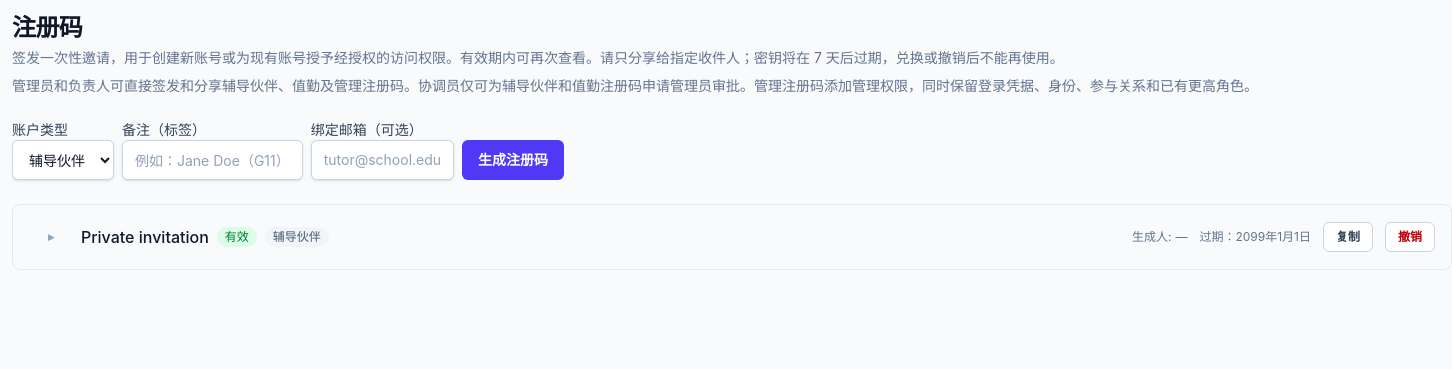
associates zh invitation labels and retains draft fields through failure
Expected: the text "Private invitation" is shown, x1=81 y1=225 x2=209 y2=249
In the field labelled "备注（标签）": (212, 160) x1=122 y1=140 x2=303 y2=180, type "Unsaved invitation"
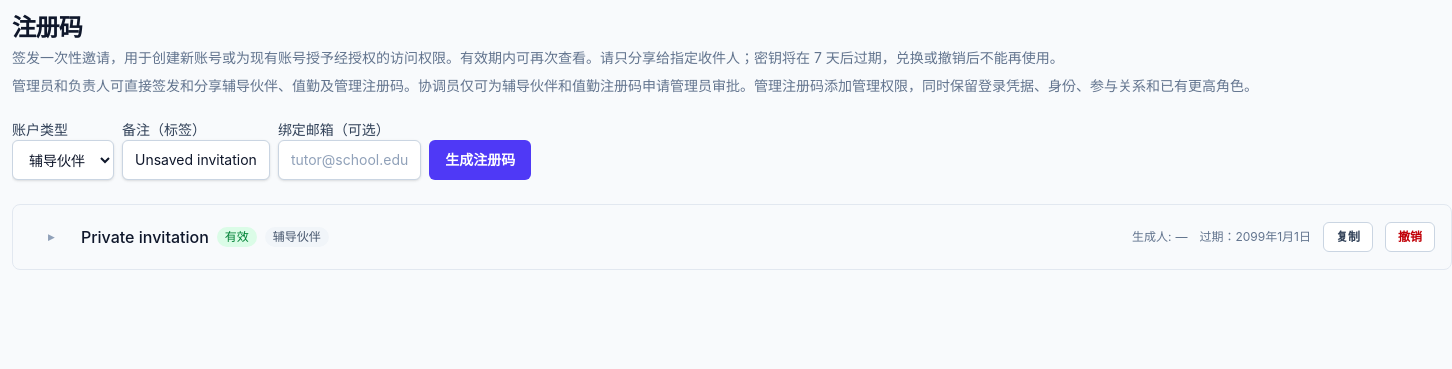
In the field labelled "绑定邮箱（可选）": (350, 160) x1=278 y1=140 x2=421 y2=180, type "synthetic@example.test"
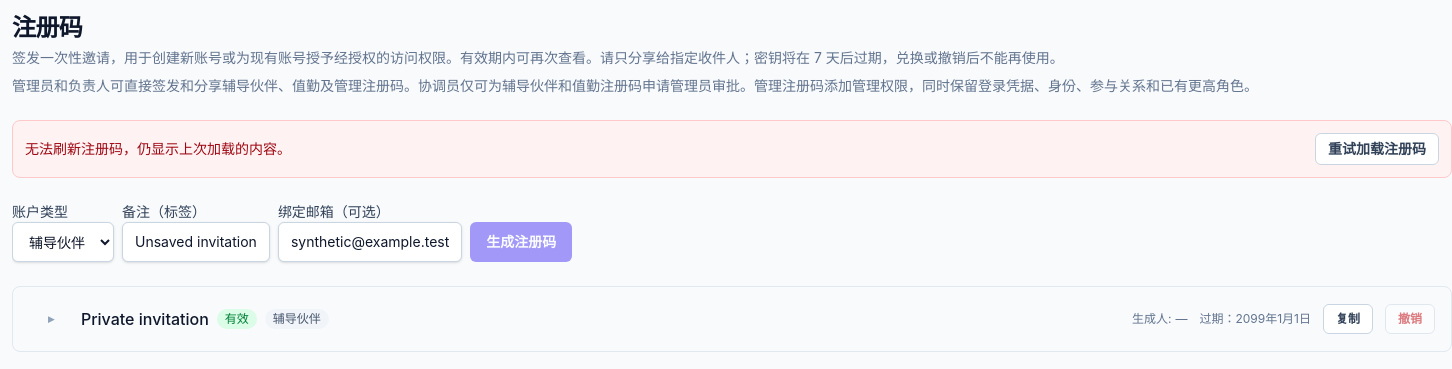
Expected: the text "Private invitation" is shown, x1=81 y1=307 x2=209 y2=331
Now the button "生成注册码" is disabled, box x1=470 y1=222 x2=572 y2=262
